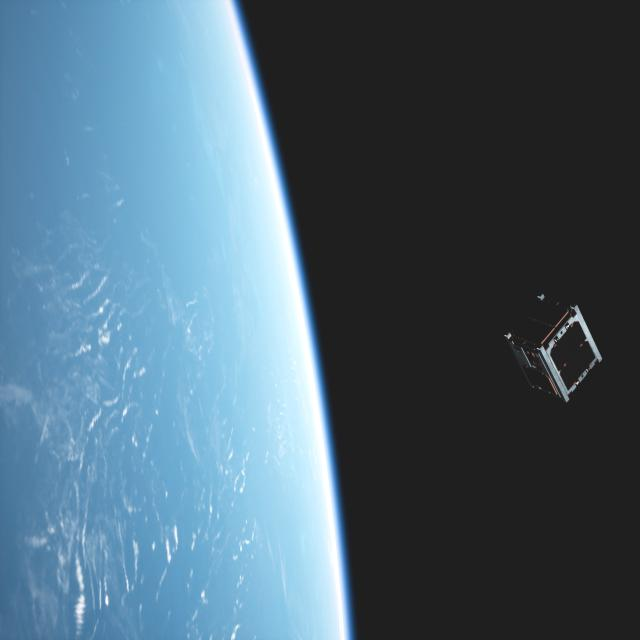satellite: (494, 283, 611, 412), (564, 414, 568, 419)
